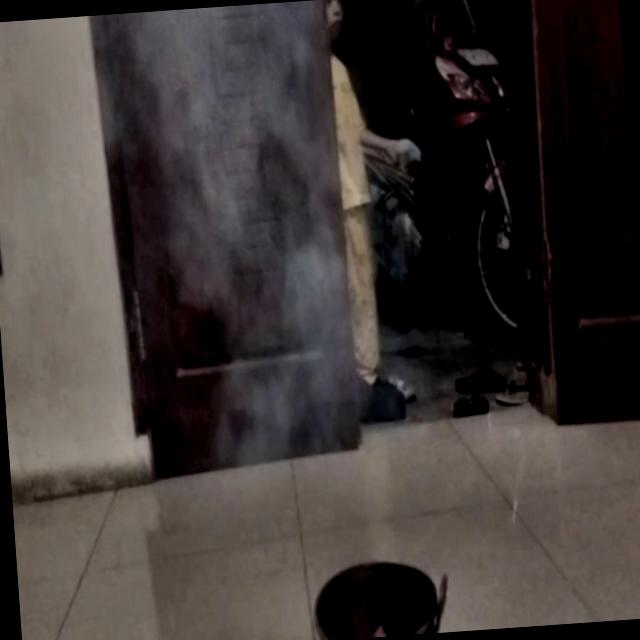smoke: (141, 0, 382, 510)
